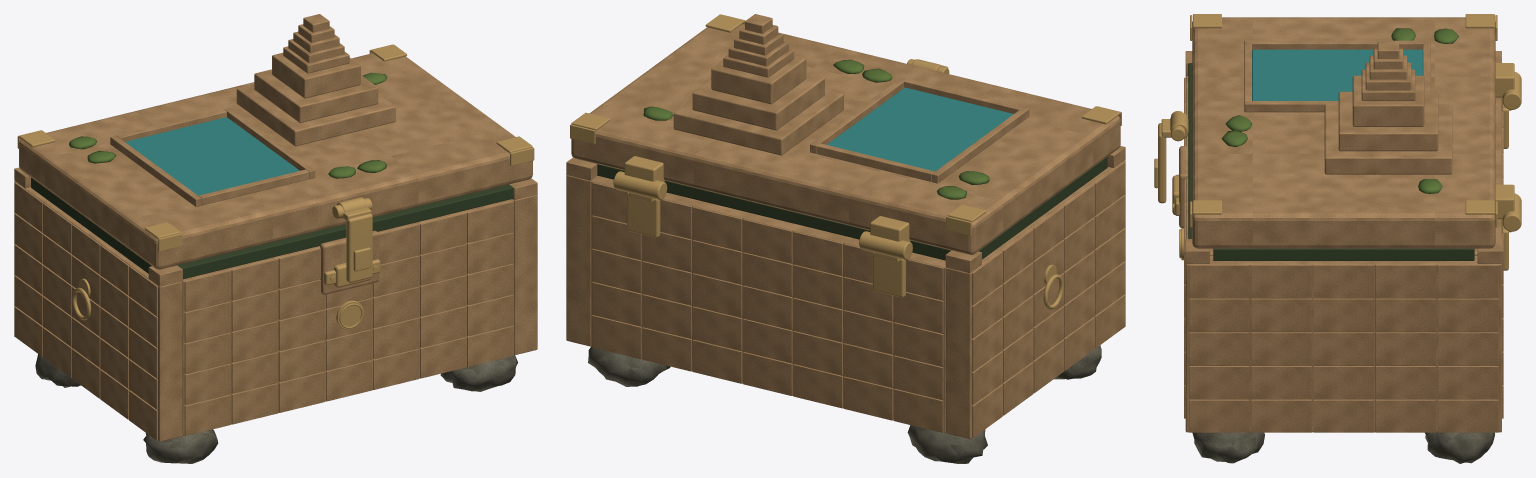
File: cambodia.glb
The picture shows the model from 3 angles, left to right: view 1: azimuth 30°, elevation 25°; view 2: azimuth 150°, elevation 25°; view 3: azimuth 270°, elevation 25°; orthographic projection. The views are drawn at different scales.
Visible parts, largest first — view 1: Lid / polished slab, Baray / water, Mineral seam / long, Sandstone / side skin, Sanctuary / tier 0, Sandstone / long skin, Sandstone / side skin.001, Sanctuary / tier 1, Sanctuary / tier 2, Granite foot, Granite foot.002, Ashlar / long block.056 (+70 smaller); view 2: Lid / polished slab, Baray / water, Sandstone / long skin.001, Sandstone / side skin, Sanctuary / tier 0, Sandstone / side skin.001, Sanctuary / tier 1, Mineral seam / long.001, Sanctuary / tier 2, Granite foot.001, Granite foot.003, Ashlar / long block.067 (+76 smaller); view 3: Lid / polished slab, Baray / water, Sandstone / side skin.001, Sanctuary / tier 0, Sanctuary / tier 1, Mineral seam / side.001, Sanctuary / tier 2, Ashlar / side block.007, Ashlar / side block.008, Ashlar / side block.027, Ashlar / side block.028, Ashlar / side block.047 (+44 smaller).
Part boxes in pixels (x1,y1,x2,y2): Lid / polished slab: (19, 53, 532, 269); Baray / water: (125, 117, 299, 195); Mineral seam / long: (177, 184, 513, 279); Sandstone / side skin: (14, 181, 182, 441); Sanctuary / tier 0: (236, 84, 395, 146); Sandstone / long skin: (182, 199, 513, 435); Sandstone / side skin.001: (512, 195, 537, 354); Sanctuary / tier 1: (254, 69, 378, 122); Sanctuary / tier 2: (272, 52, 360, 98); Granite foot: (143, 429, 218, 463); Granite foot.002: (440, 355, 517, 391); Ashlar / long block.056: (184, 270, 231, 311); Lid / polished slab: (571, 24, 1120, 254); Baray / water: (827, 87, 1013, 171); Sandstone / long skin.001: (591, 176, 945, 432); Sandstone / side skin: (945, 160, 1125, 438); Sanctuary / tier 0: (673, 89, 843, 155); Sandstone / side skin.001: (566, 175, 598, 346); Sanctuary / tier 1: (692, 73, 824, 130); Mineral seam / long.001: (597, 164, 950, 260); Sanctuary / tier 2: (711, 55, 806, 104); Granite foot.001: (907, 425, 987, 463); Granite foot.003: (588, 346, 670, 386); Ashlar / long block.067: (692, 206, 742, 250); Lid / polished slab: (1192, 17, 1495, 248); Baray / water: (1252, 49, 1422, 100); Sandstone / side skin.001: (1185, 256, 1501, 432); Sanctuary / tier 0: (1324, 104, 1452, 174); Sanctuary / tier 1: (1338, 91, 1438, 151); Mineral seam / side.001: (1213, 248, 1474, 260); Sanctuary / tier 2: (1352, 75, 1424, 126); Ashlar / side block.007: (1313, 399, 1374, 432); Ashlar / side block.008: (1375, 399, 1436, 432); Ashlar / side block.027: (1313, 332, 1374, 365); Ashlar / side block.028: (1375, 332, 1436, 365); Ashlar / side block.047: (1313, 264, 1374, 297).
Size of the model in its own units: 3.8 by 3.17 by 2.88.
6 materials, 2 textured.
